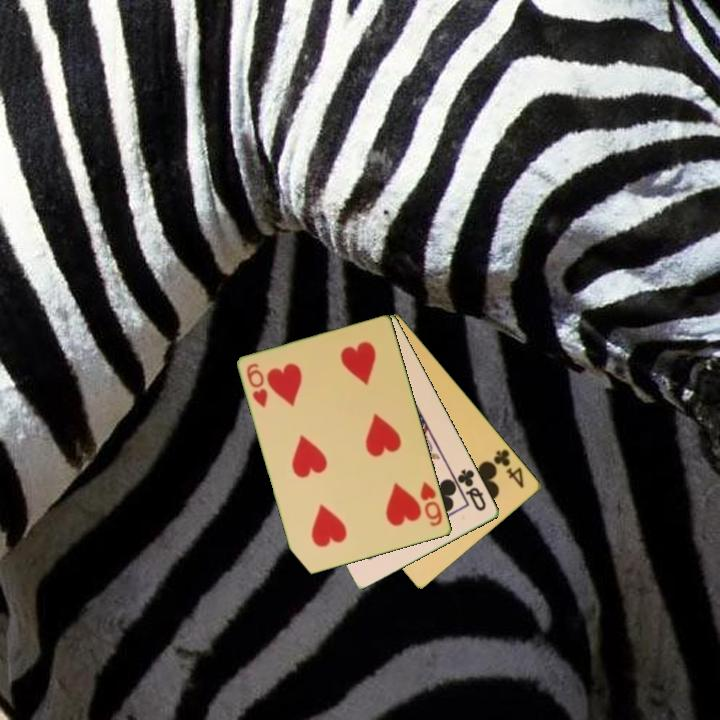4c: (490, 446, 527, 491)
6h: (417, 478, 446, 529), (243, 360, 271, 411)
Qc: (454, 465, 490, 514)
